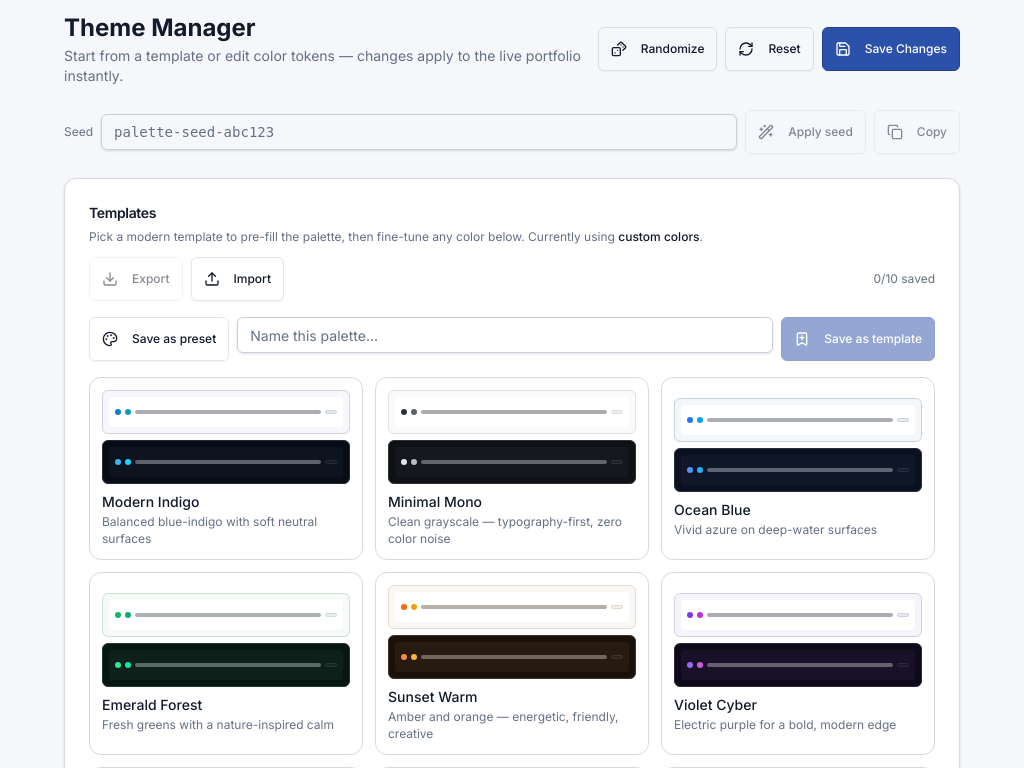
Test: ThemeManager › saves the current palette as a named custom template via the API
Type "My Teal" into the field named "Name for the new template" at x=505, y=335, box [237,317,773,353]
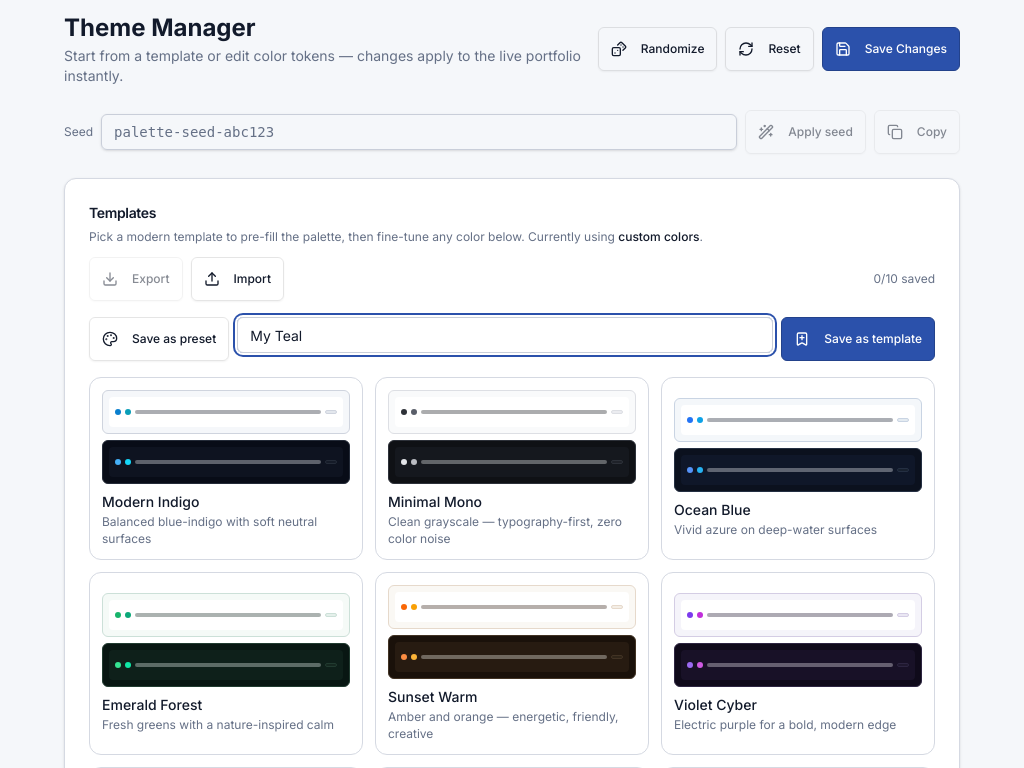
Click the button "Save as template" at x=858, y=339, box [781,317,935,361]
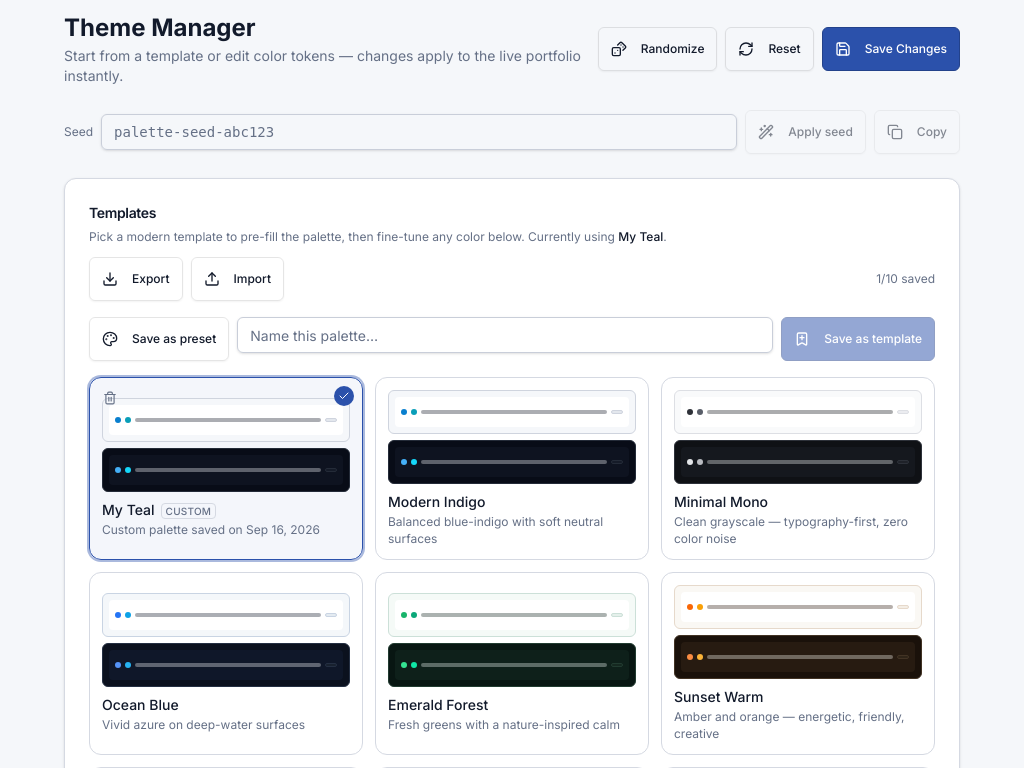
Check: the text "My Teal" is shown, box [618,229,663,244]
Check: the text "Custom" is shown, box [160,503,216,519]
